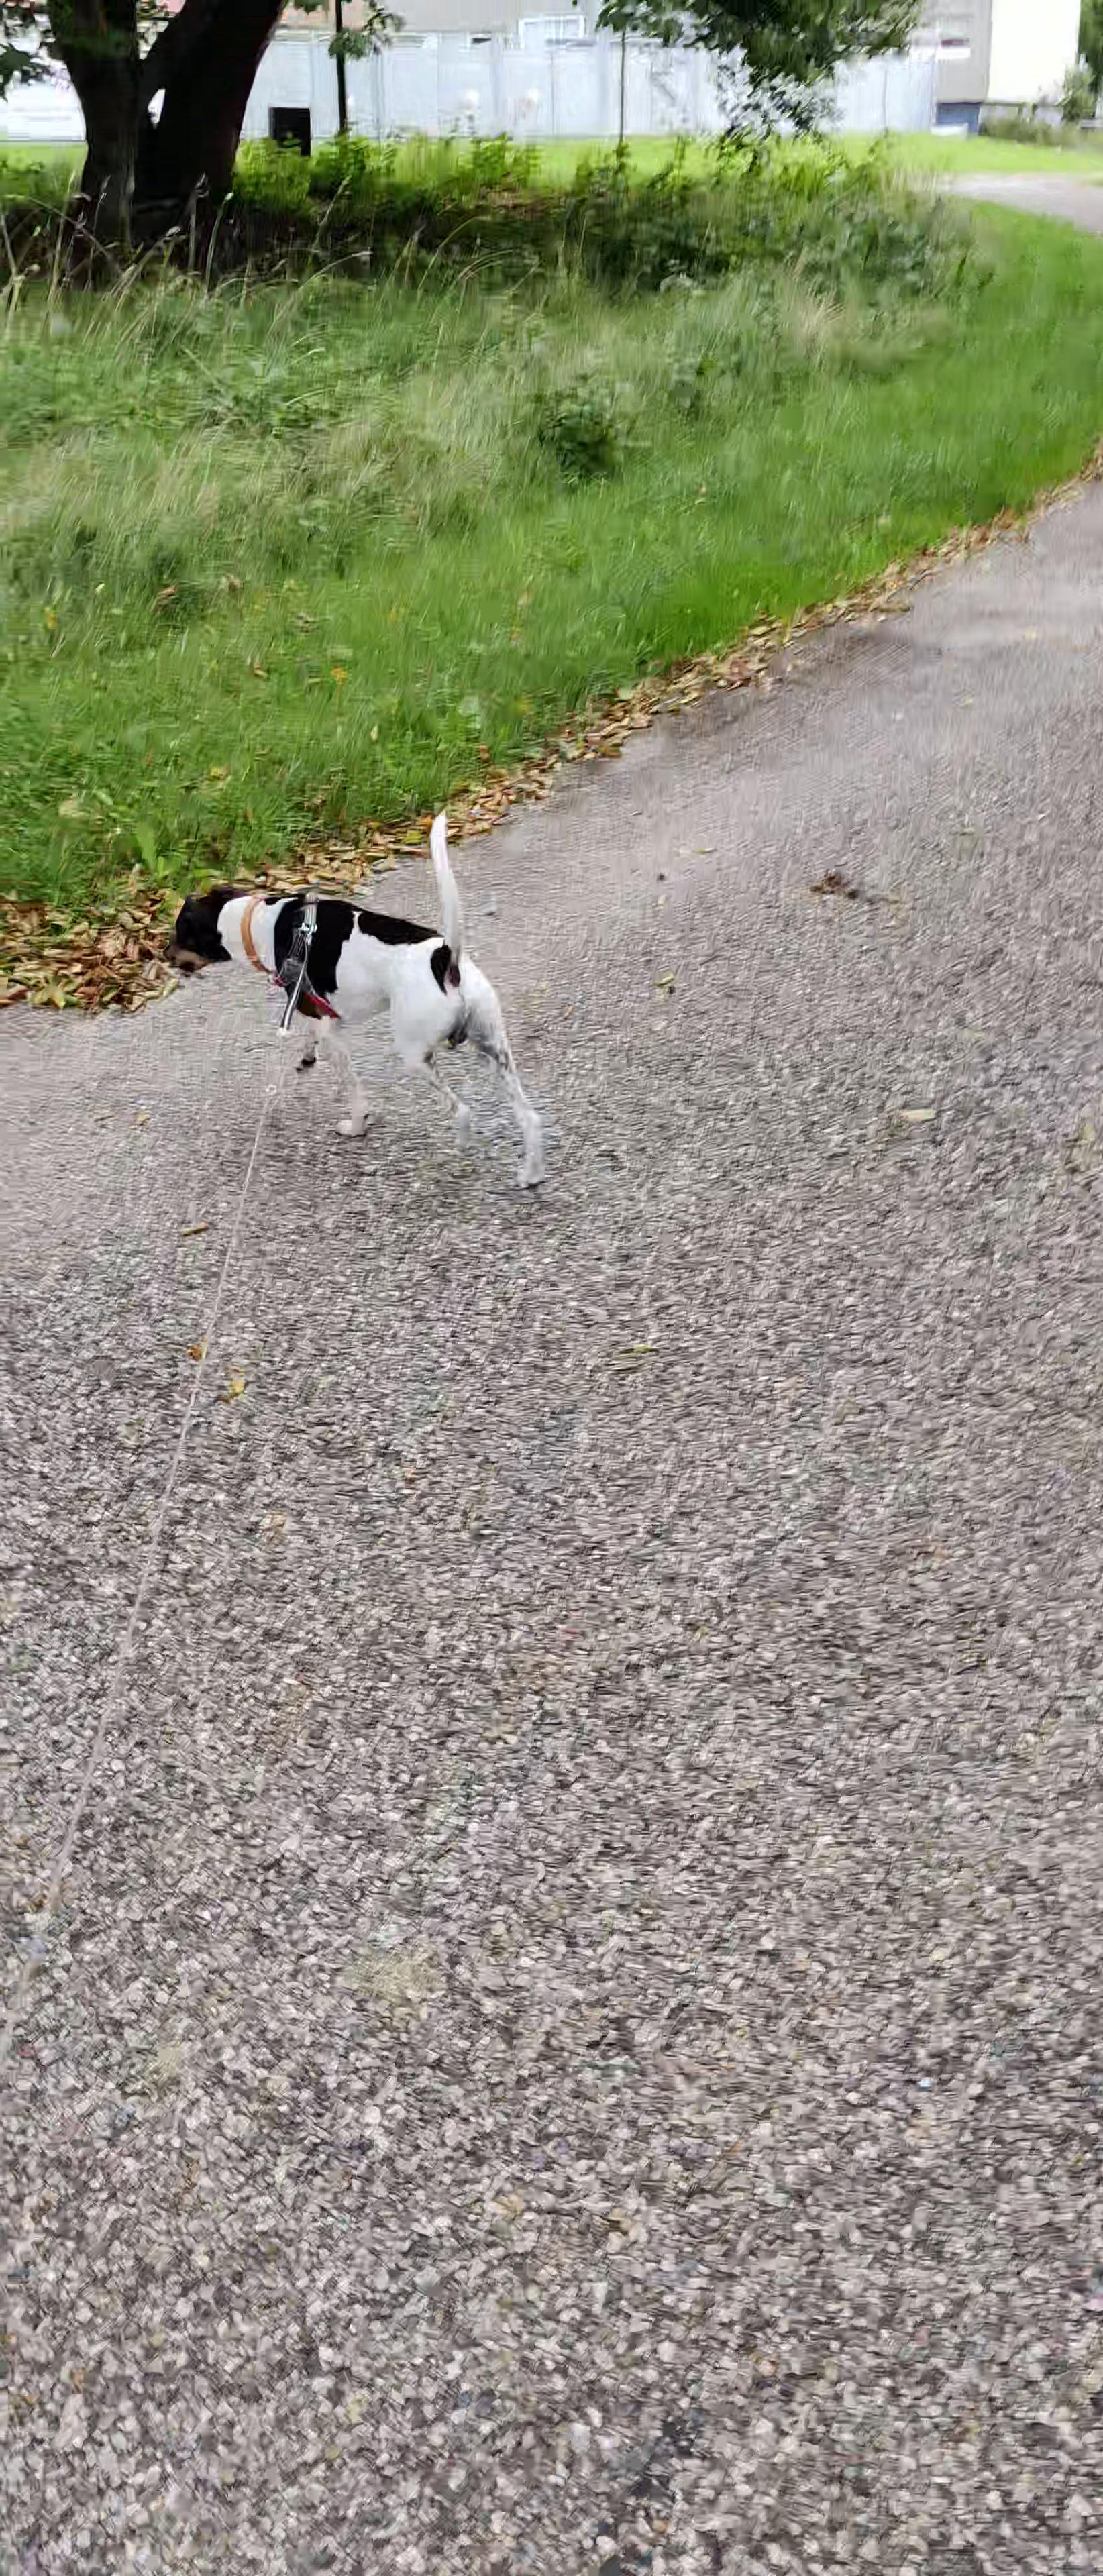Dog: (158, 797, 556, 1198)
